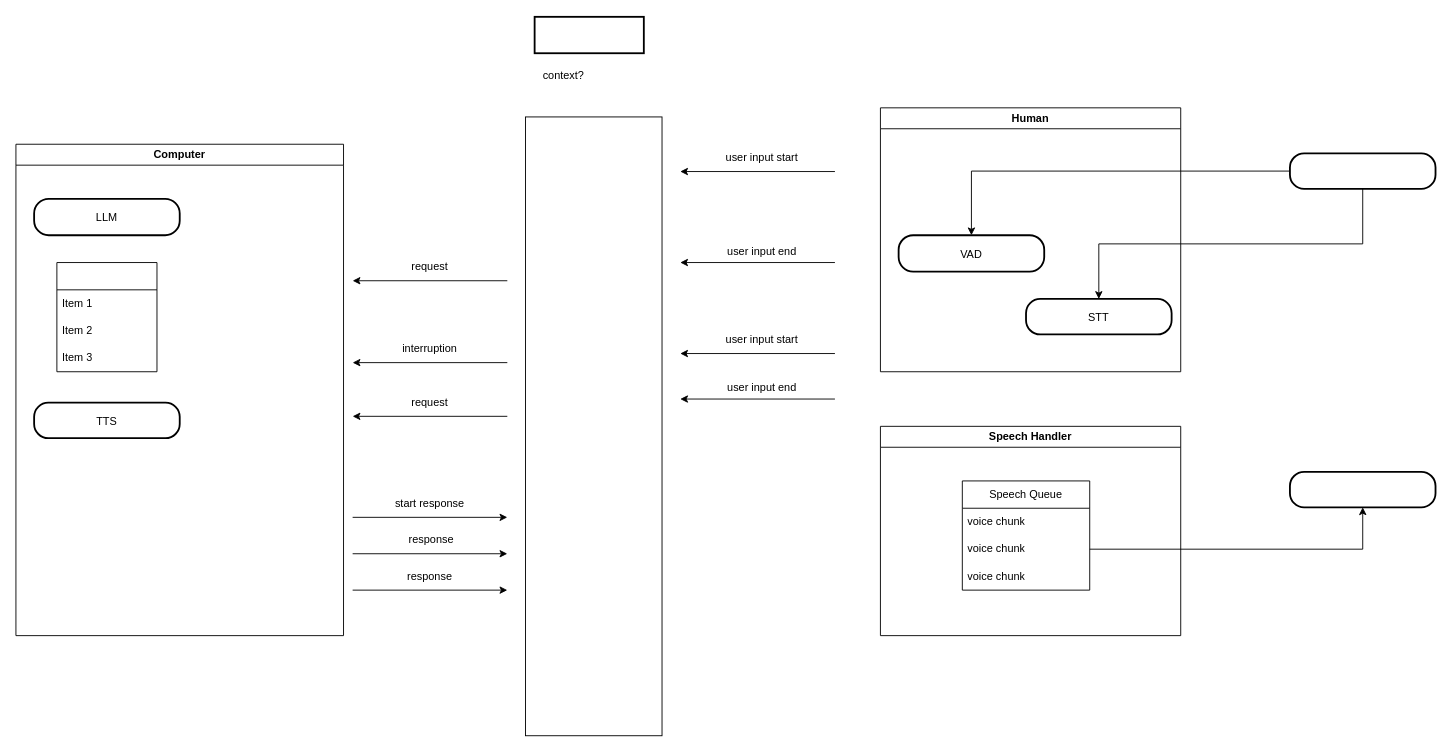
The diagram is 1452 pixels wide and 752 high, and some of its shapes have lost their labels. Each missing label, with the centre of its shape:
"Moderator" goes at [588,34].
"WebRTC Track input" goes at [1362,170].
"WebRTC Track output" goes at [1362,489].
